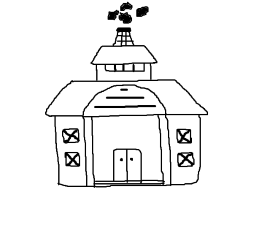closed_window: (58, 123, 82, 147), (175, 148, 198, 172), (173, 125, 197, 146), (62, 149, 84, 170)
door: (107, 143, 150, 187)
roof: (41, 77, 218, 116), (87, 44, 169, 66)
smoking_chimney: (101, 1, 151, 45)
wall: (46, 117, 208, 193)
